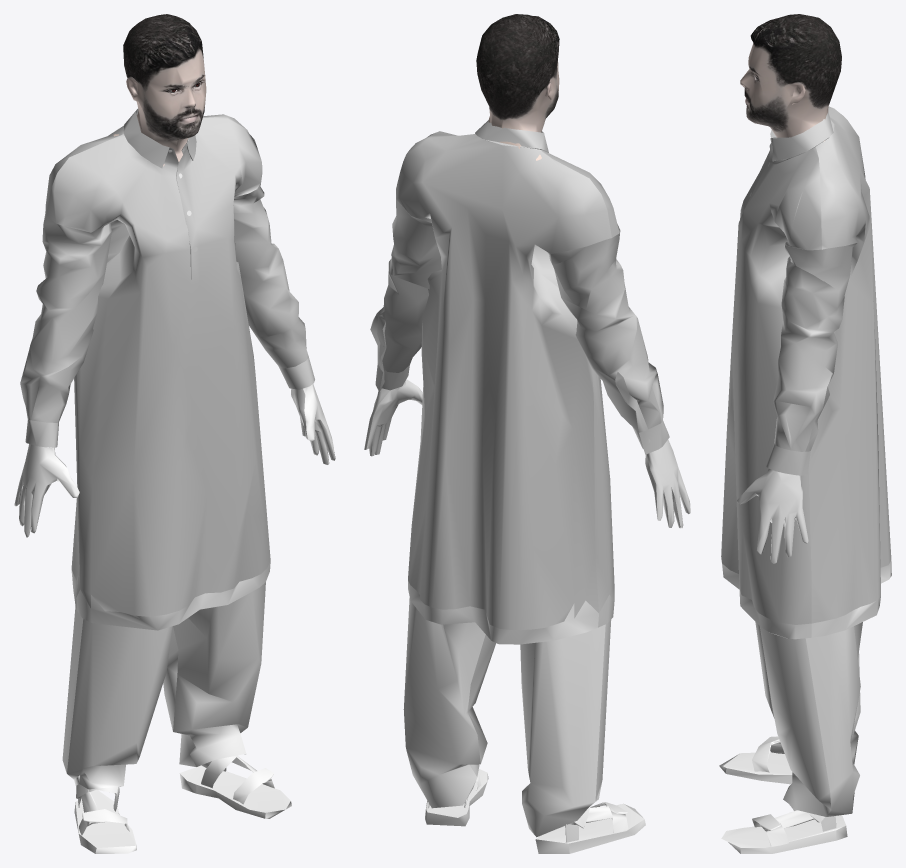
File: kameez.glb
3 renders of one model, left to right at view 1: azimuth 30°, elevation 25°; view 2: azimuth 150°, elevation 25°; view 3: azimuth 270°, elevation 25°, orthographic.
Visible parts, largest first — view 1: top, bottom, head, shoes, hands; view 2: top, bottom, head, shoes, hands; view 3: top, bottom, head, shoes, hands.
Part boxes in pixels (bbox=[...]): top: bbox=[20, 108, 314, 616]; bottom: bbox=[62, 561, 270, 789]; head: bbox=[113, 14, 206, 166]; shoes: bbox=[74, 755, 291, 853]; hands: bbox=[14, 384, 335, 537]; top: bbox=[370, 120, 669, 629]; bottom: bbox=[403, 581, 614, 837]; head: bbox=[476, 14, 559, 160]; shoes: bbox=[425, 769, 645, 853]; hands: bbox=[364, 379, 690, 528]; top: bbox=[721, 106, 891, 624]; bottom: bbox=[721, 559, 891, 816]; head: bbox=[740, 14, 841, 141]; shoes: bbox=[719, 736, 847, 853]; hands: bbox=[737, 468, 808, 563].
Bounding box in the file's own units: 0.701 × 1.74 × 0.3452.
7 materials, 2 textured.
